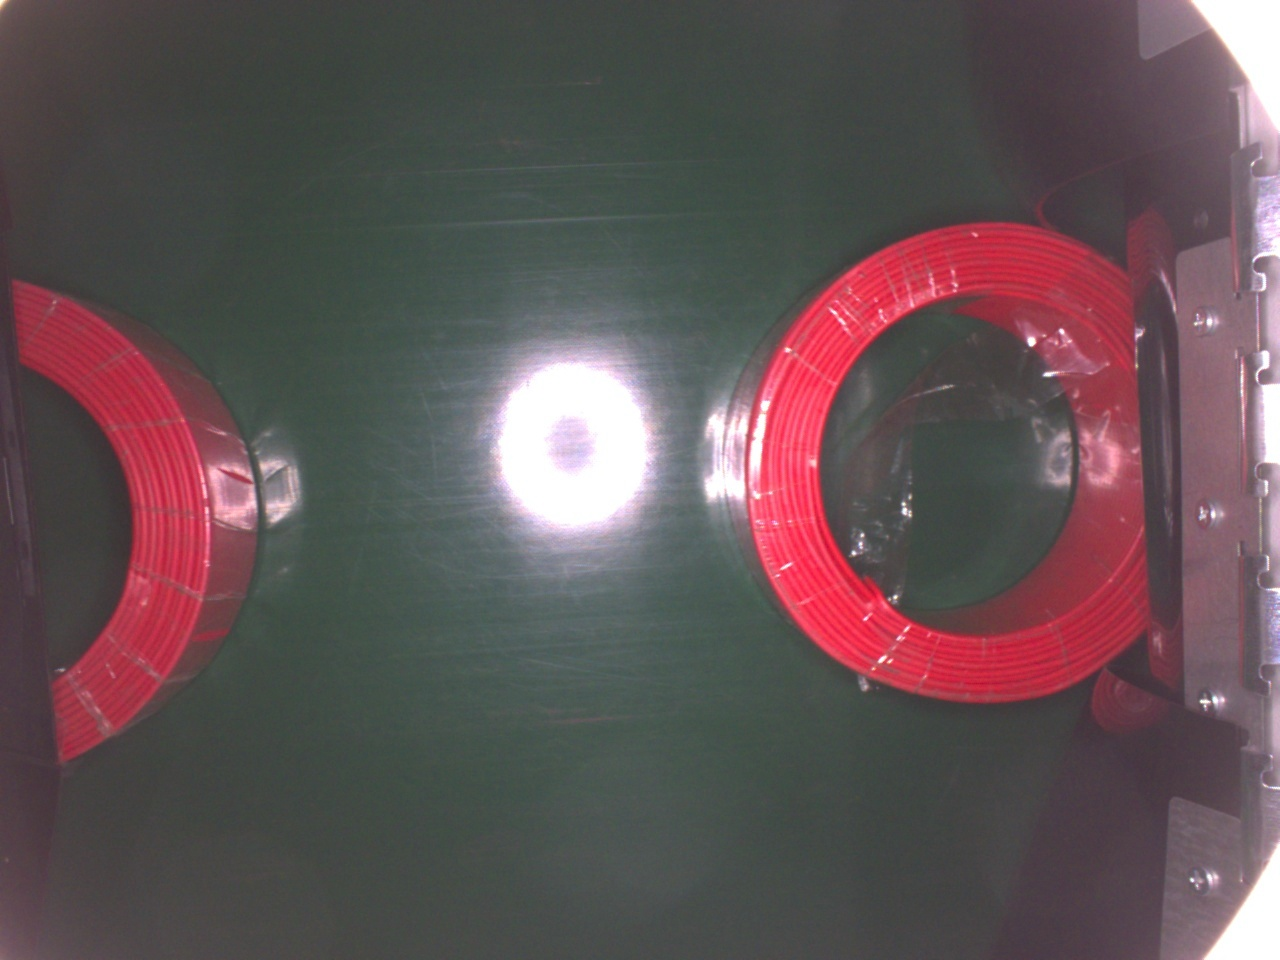red: (717, 217, 1152, 701), (10, 270, 265, 762)
